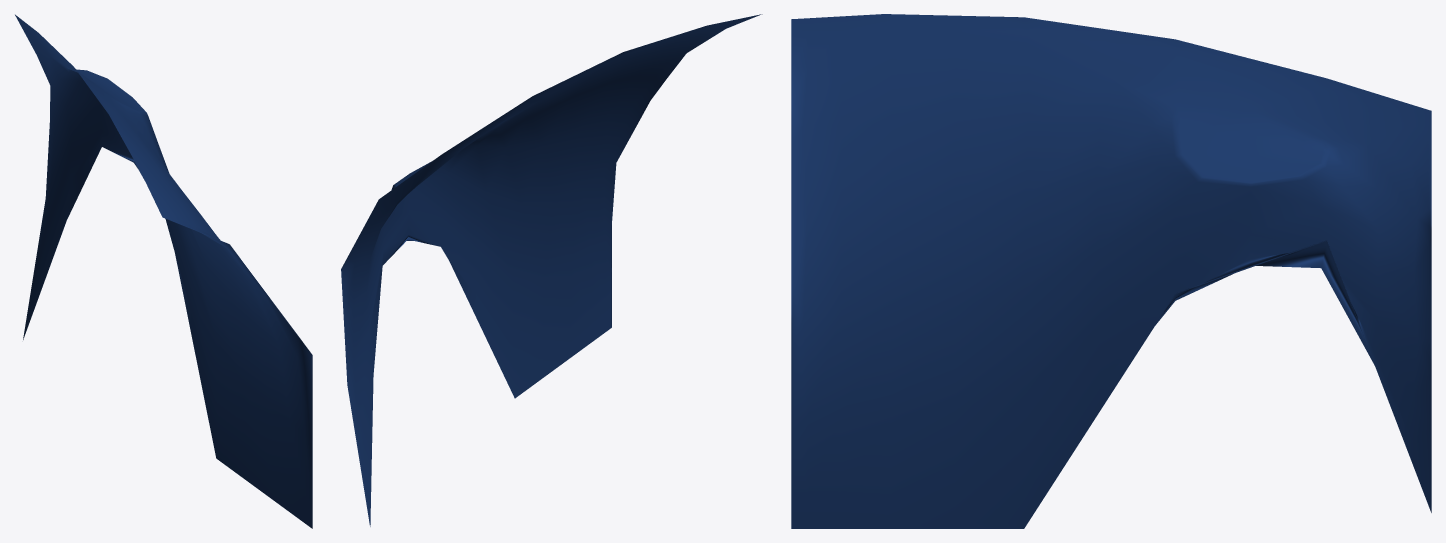
File: quarter_rear_l.glb
3 views of the same model, side by side, from view 1: azimuth 30°, elevation 25°; view 2: azimuth 150°, elevation 25°; view 3: azimuth 270°, elevation 25° (orthographic). The views are drawn at different scales.
Parts seen in each view (by area): view 1: GEO_Quarter_Rear_L; view 2: GEO_Quarter_Rear_L; view 3: GEO_Quarter_Rear_L.
Boxes of the visible parts, <box> form: GEO_Quarter_Rear_L: <box>15,14,312,528</box>; GEO_Quarter_Rear_L: <box>341,14,762,526</box>; GEO_Quarter_Rear_L: <box>791,14,1431,528</box>.
Bounding box in the file's own units: 0.39 × 0.8491 × 1.1.
